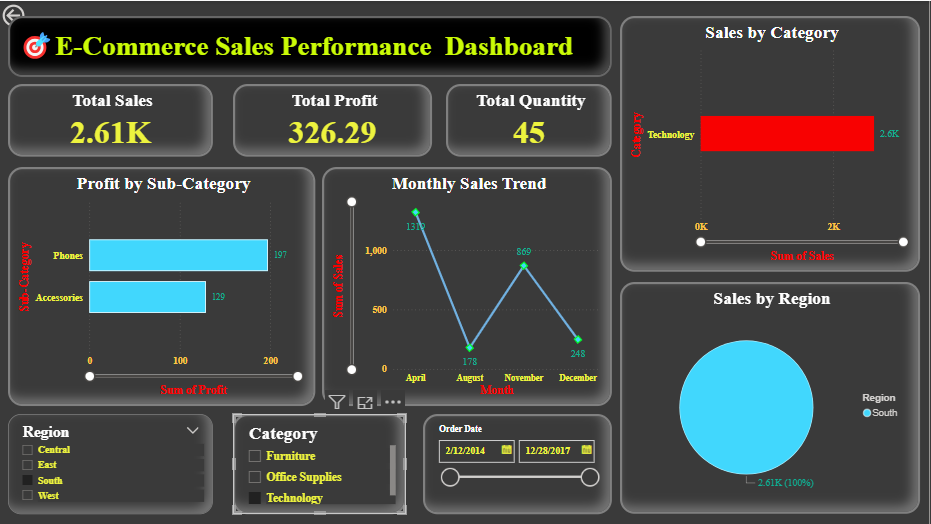

This screenshot's page, from the dashboard's own definition file:
{"tool":"powerbi","page":{"name":"Page 1","canvas":[1280,720],"ordinal":0},"visuals":[{"type":"actionButton","box":[0,0,100,40],"z":0},{"type":"card","title":"Total Sales","fields":{"Values":["Sum(Ecommerce_Sales_Data.Sales)"]},"box":[12.4,114.2,282.2,100.5],"z":1000},{"type":"card","title":"Total Profit","fields":{"Values":["Sum(Ecommerce_Sales_Data.Profit)"]},"box":[322.1,114.2,273.9,100.5],"z":2000},{"type":"card","title":"Total Quantity","fields":{"Values":["Sum(Ecommerce_Sales_Data.Quantity)"]},"box":[615.2,114.2,228.5,100.5],"z":3000},{"type":"clusteredBarChart","title":"Sales by Category","fields":{"Category":["Ecommerce_Sales_Data.Category"],"Y":["Sum(Ecommerce_Sales_Data.Sales)"]},"box":[854.7,20.6,412.9,352.3],"z":4000},{"type":"clusteredBarChart","title":"Profit by Sub-Category","fields":{"Category":["Ecommerce_Sales_Data.Sub-Category"],"Y":["Sum(Ecommerce_Sales_Data.Profit)"]},"box":[12.4,228.5,422.5,328.9],"z":5000},{"type":"lineChart","title":"Monthly Sales Trend","fields":{"Category":["Ecommerce_Sales_Data.Order Date.Variation.Date Hierarchy.Month"],"Y":["Sum(Ecommerce_Sales_Data.Sales)"]},"box":[444.6,228.5,399.1,328.9],"z":6000},{"type":"pieChart","title":"Sales by Region","fields":{"Category":["Ecommerce_Sales_Data.Region"],"Y":["Sum(Ecommerce_Sales_Data.Sales)"]},"box":[854.7,386.8,412.9,319.3],"z":7000},{"type":"slicer","title":"Region","fields":{"Values":["Ecommerce_Sales_Data.Region"]},"box":[12.4,568.4,282.2,137.6],"z":8000},{"type":"slicer","title":"Category","fields":{"Values":["Ecommerce_Sales_Data.Category"]},"box":[322.1,568.4,238.1,137.6],"z":9000},{"type":"slicer","title":"Order Date","fields":{"Values":["Ecommerce_Sales_Data.Order Date"]},"box":[583.6,568.4,260.1,137.6],"z":10000},{"type":"textbox","box":[12.4,20.6,831.3,84],"z":11000}]}

Visuals, with their boxes in screenshot pixels (x1, y1, x2, y2), scaled from the page's 1280x720 canvas onto the 931x524 screenshot:
actionButton: [x1=0, y1=0, x2=73, y2=29]
"Total Sales" card: [x1=9, y1=83, x2=214, y2=156]
"Total Profit" card: [x1=234, y1=83, x2=433, y2=156]
"Total Quantity" card: [x1=447, y1=83, x2=614, y2=156]
"Sales by Category" clusteredBarChart: [x1=622, y1=15, x2=922, y2=271]
"Profit by Sub-Category" clusteredBarChart: [x1=9, y1=166, x2=316, y2=406]
"Monthly Sales Trend" lineChart: [x1=323, y1=166, x2=614, y2=406]
"Sales by Region" pieChart: [x1=622, y1=282, x2=922, y2=514]
"Region" slicer: [x1=9, y1=414, x2=214, y2=514]
"Category" slicer: [x1=234, y1=414, x2=407, y2=514]
"Order Date" slicer: [x1=424, y1=414, x2=614, y2=514]
textbox: [x1=9, y1=15, x2=614, y2=76]
